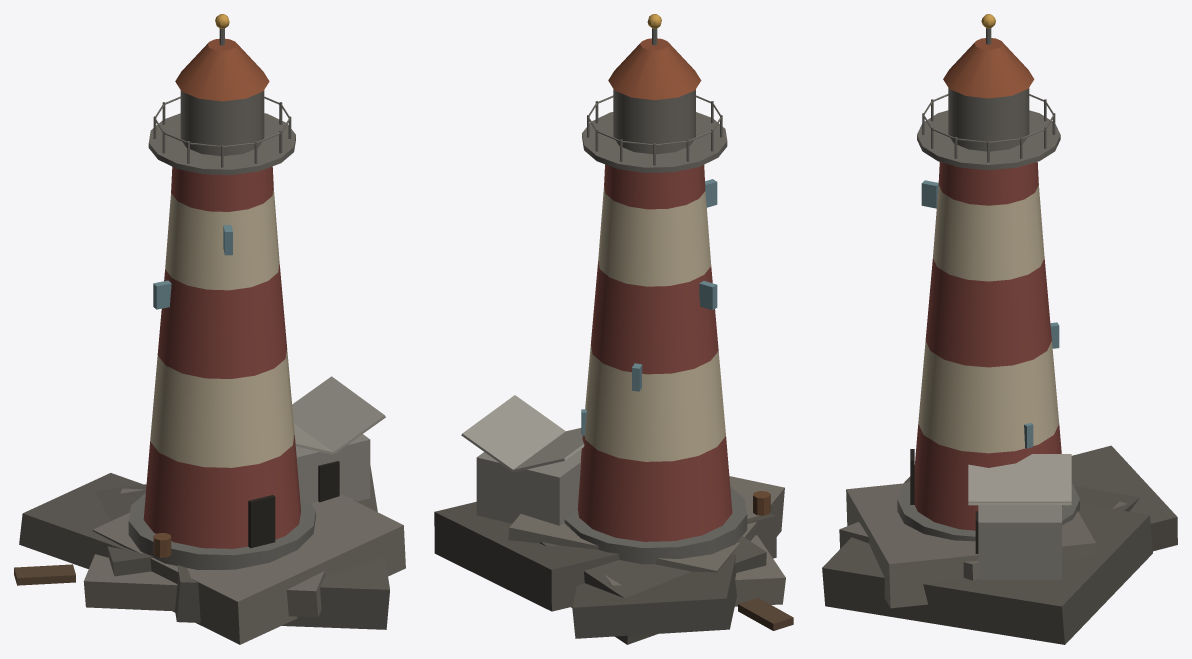
File: V_Lighthouse.glb
3 views of the same model, side by side, from view 1: azimuth 30°, elevation 25°; view 2: azimuth 150°, elevation 25°; view 3: azimuth 270°, elevation 25° (orthographic). The views are drawn at different scales.
Visible parts, largest first — view 1: V_Lighthouse_Structure, V_Lighthouse_Foundation, V_Lighthouse_Roof, V_Lighthouse_Fixtures, V_Lighthouse_Openings, V_Lighthouse_Props; view 2: V_Lighthouse_Structure, V_Lighthouse_Foundation, V_Lighthouse_Roof, V_Lighthouse_Fixtures, V_Lighthouse_Props, V_Lighthouse_Openings; view 3: V_Lighthouse_Structure, V_Lighthouse_Foundation, V_Lighthouse_Roof, V_Lighthouse_Fixtures, V_Lighthouse_Openings.
Boxes of the visible parts, <box> form: V_Lighthouse_Structure: <box>143,90,370,548</box>; V_Lighthouse_Foundation: <box>19,465,405,644</box>; V_Lighthouse_Roof: <box>175,14,385,454</box>; V_Lighthouse_Fixtures: <box>148,96,295,174</box>; V_Lighthouse_Openings: <box>153,225,339,548</box>; V_Lighthouse_Props: <box>14,533,171,585</box>; V_Lighthouse_Structure: <box>476,89,732,541</box>; V_Lighthouse_Foundation: <box>434,476,785,644</box>; V_Lighthouse_Roof: <box>461,14,701,472</box>; V_Lighthouse_Fixtures: <box>582,95,727,172</box>; V_Lighthouse_Props: <box>738,491,793,630</box>; V_Lighthouse_Openings: <box>581,179,717,435</box>; V_Lighthouse_Structure: <box>914,88,1062,579</box>; V_Lighthouse_Foundation: <box>822,445,1177,644</box>; V_Lighthouse_Roof: <box>943,14,1071,505</box>; V_Lighthouse_Fixtures: <box>917,94,1060,169</box>; V_Lighthouse_Openings: <box>910,180,1059,553</box>.
Size of the model in its own units: 15.33 by 23.41 by 13.63.
